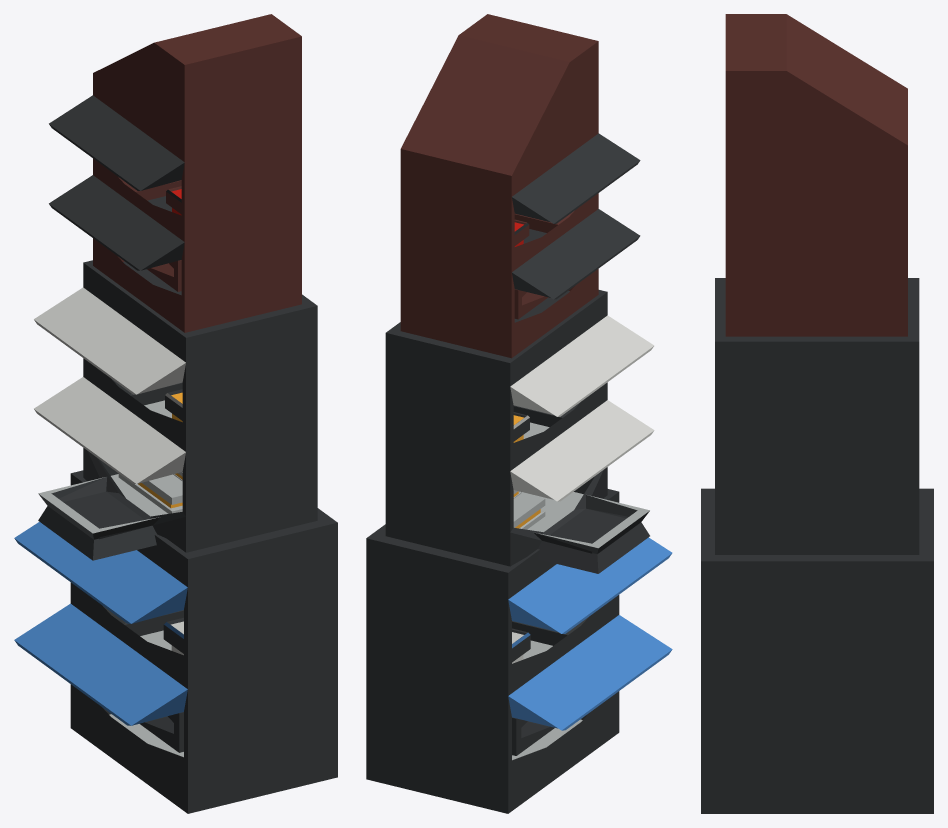
File: BuildingStack2.fbx
3 views of the same model, side by side, from view 1: azimuth 30°, elevation 25°; view 2: azimuth 150°, elevation 25°; view 3: azimuth 270°, elevation 25° (orthographic). The views are drawn at different scales.
Visible parts, largest first — view 1: Cube.173, Cube.174, Cube.175; view 2: Cube.173, Cube.175, Cube.174; view 3: Cube.173, Cube.175, Cube.174.
Part boxes in pixels (bbox=[...]): Cube.173: bbox=[14, 470, 337, 813]; Cube.174: bbox=[34, 260, 317, 560]; Cube.175: bbox=[49, 14, 301, 332]; Cube.173: bbox=[366, 489, 672, 813]; Cube.175: bbox=[400, 14, 640, 358]; Cube.174: bbox=[385, 290, 654, 573]; Cube.173: bbox=[701, 488, 933, 813]; Cube.175: bbox=[725, 14, 907, 336]; Cube.174: bbox=[715, 278, 919, 554].
Bounding box in the file's own units: 859 × 2832 × 816.
